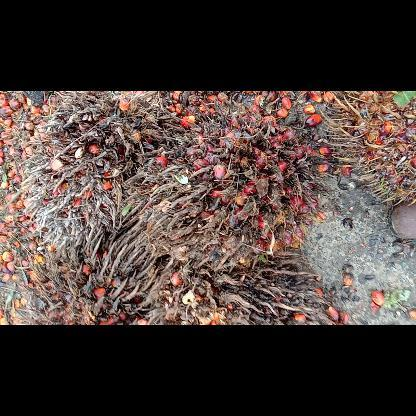Terlalu masak: (19, 91, 204, 309), (123, 90, 328, 270), (138, 223, 336, 324), (319, 90, 415, 209)
